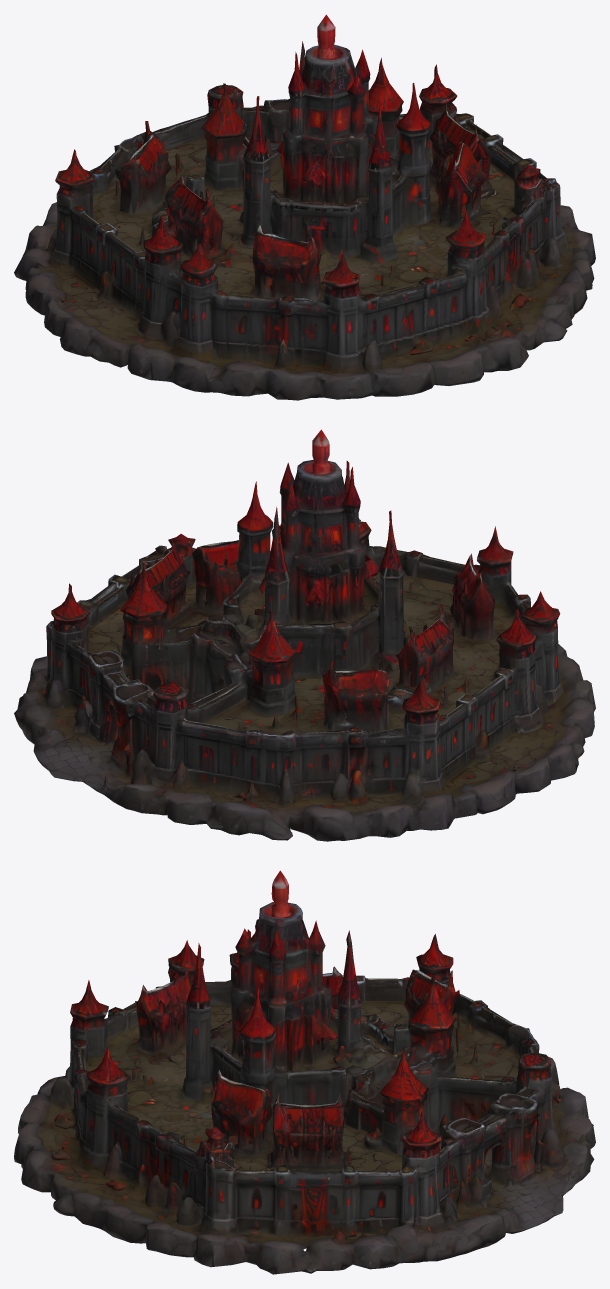
The model's file is MEtropolisVengativos.obj.
3 renders of one model, top to bottom at view 1: azimuth 30°, elevation 25°; view 2: azimuth 150°, elevation 25°; view 3: azimuth 270°, elevation 25°, orthographic.
Parts seen in each view (by area): view 1: tripo_node_9f5c35f3-f376-4676-ac56-57fc2c2da47b; view 2: tripo_node_9f5c35f3-f376-4676-ac56-57fc2c2da47b; view 3: tripo_node_9f5c35f3-f376-4676-ac56-57fc2c2da47b.
Boxes of the visible parts, x1,y1,x2,y2 form: tripo_node_9f5c35f3-f376-4676-ac56-57fc2c2da47b: (14,14,595,400); tripo_node_9f5c35f3-f376-4676-ac56-57fc2c2da47b: (14,429,595,841); tripo_node_9f5c35f3-f376-4676-ac56-57fc2c2da47b: (14,870,595,1274).
Size of the model in its own units: 0.9999 by 0.5192 by 0.9724.
Materials: 1 (1 with a texture image).
